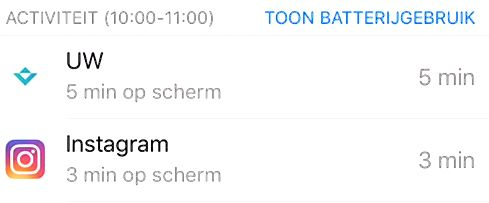activity: (1, 3, 221, 31)
app: (1, 40, 489, 104), (1, 125, 488, 189)
